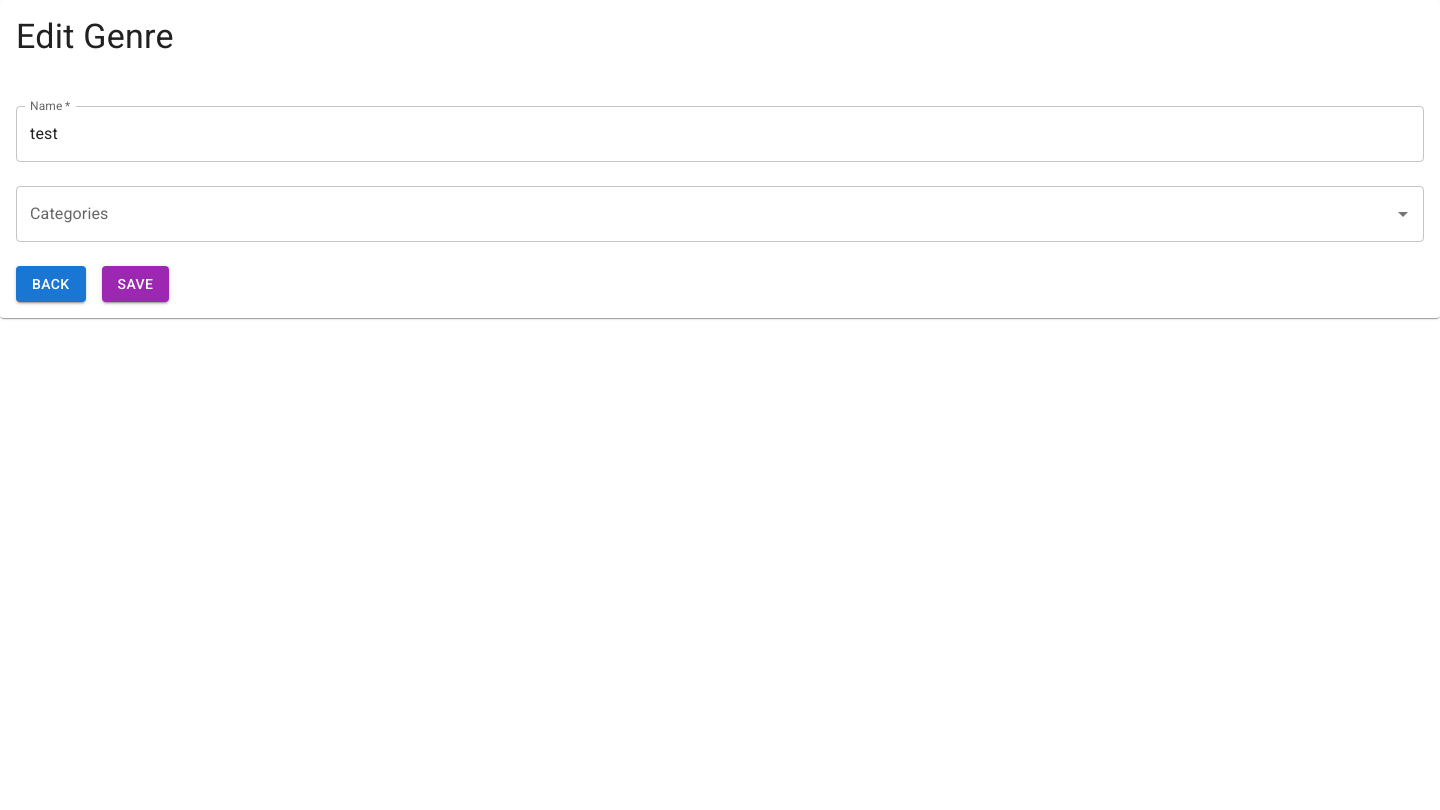
Test: GenreEdit › should be click submit with error
Expected: the field labelled "Name" holds "test", [16,106,1424,162]
Click the button "Save" at point(136, 284), box [102,266,169,302]
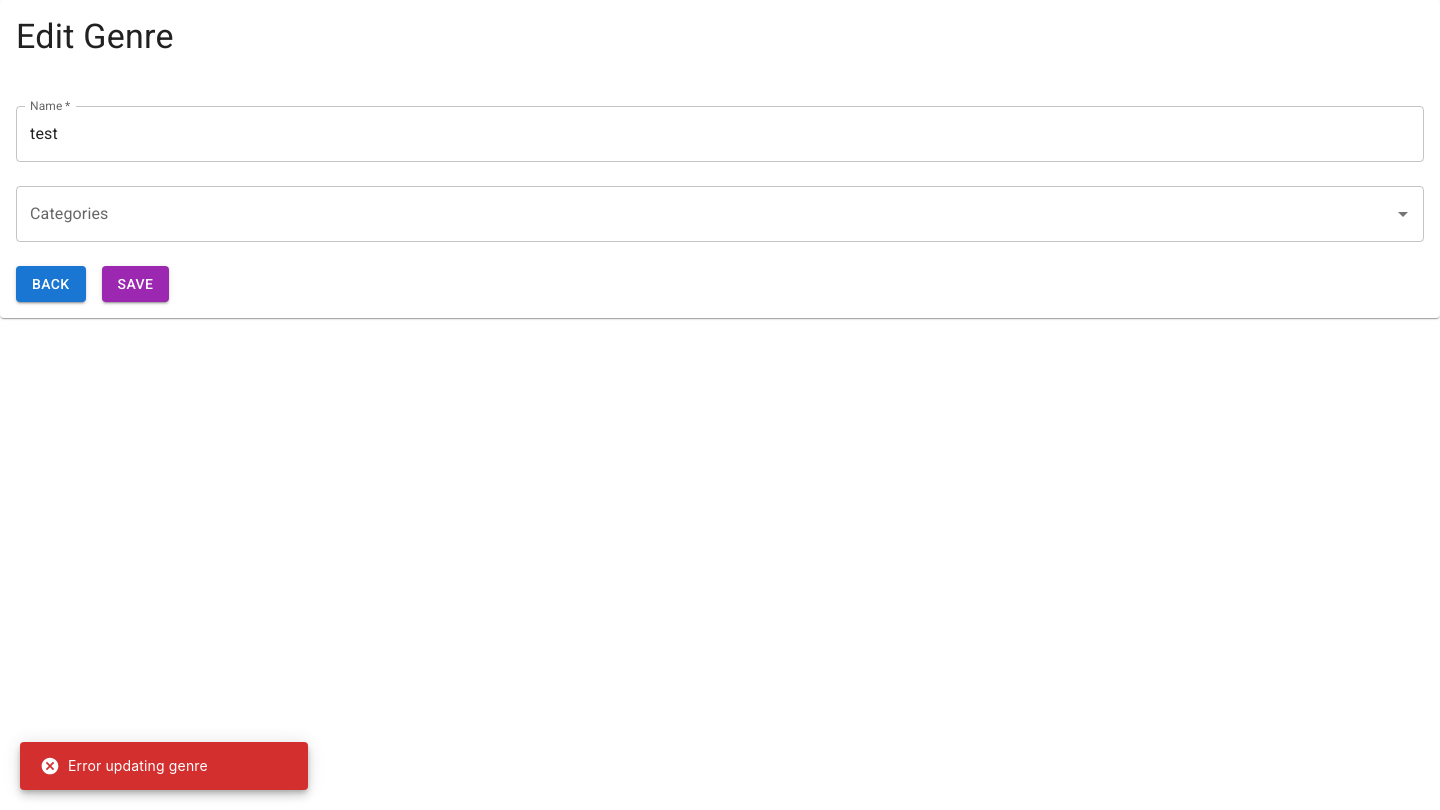
Expected: the text "Error updating genre" is shown, [40,756,208,776]
